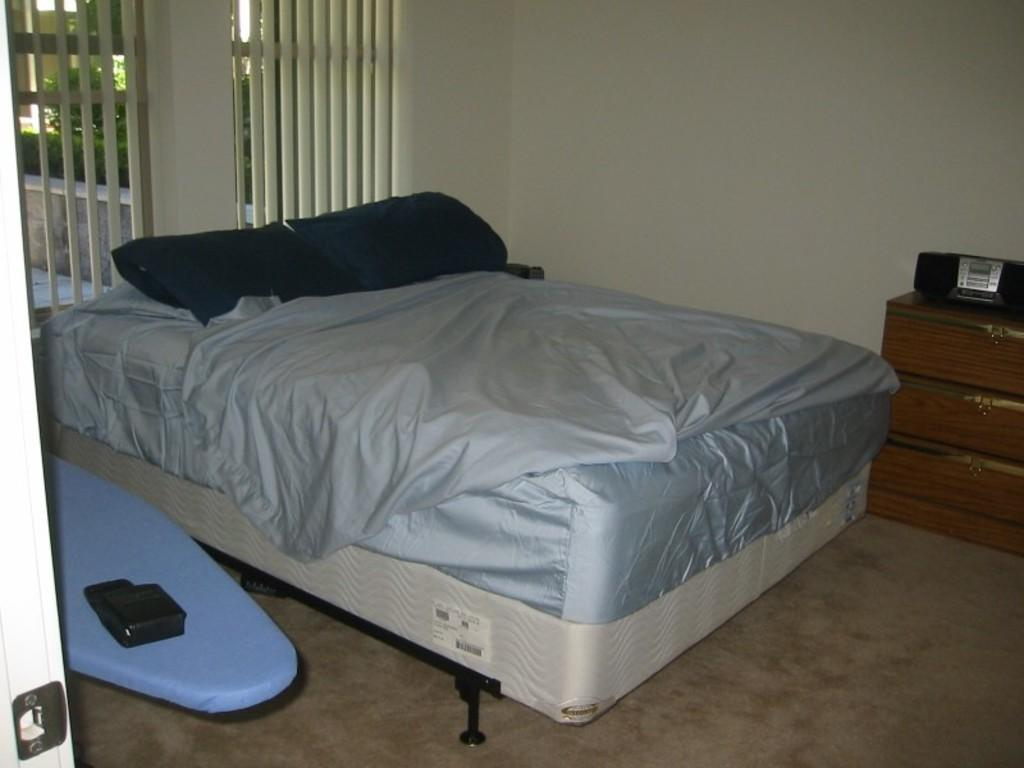cabinet_door: (887, 442, 1024, 516), (898, 308, 1024, 383), (899, 382, 1024, 443)
